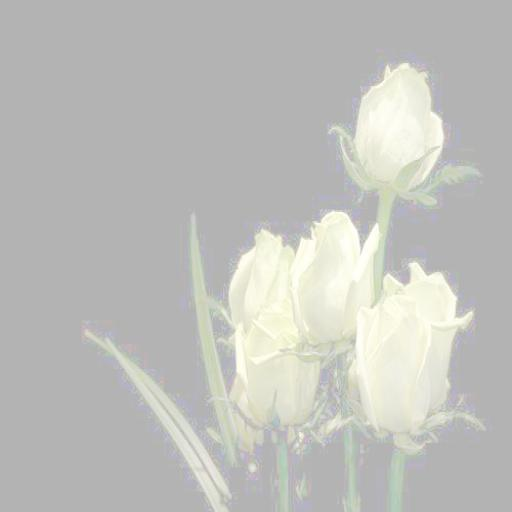rose: (357, 260, 470, 429), (290, 211, 378, 358), (354, 64, 444, 180), (232, 309, 318, 429)
